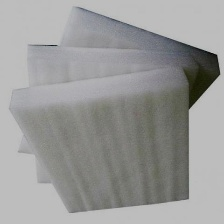foam_box: (14, 3, 224, 159), (4, 60, 195, 217), (24, 41, 202, 189)
